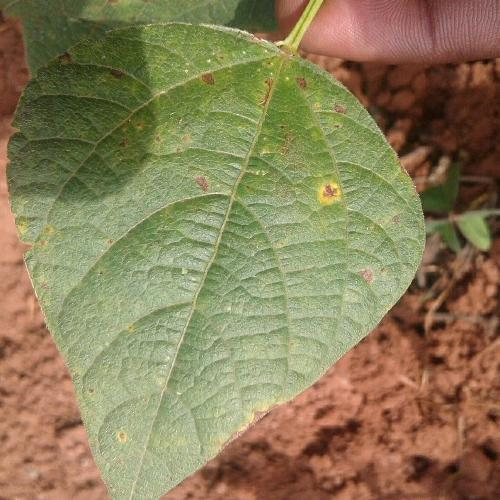hawar: (57, 331, 158, 470), (273, 128, 370, 256), (170, 52, 225, 209)
